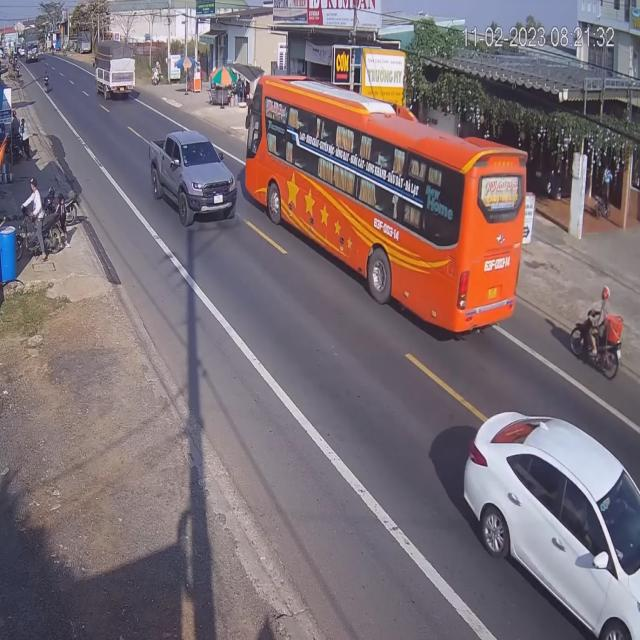bus: (248, 64, 532, 343)
car: (466, 406, 640, 640), (152, 131, 238, 228)
motorbike: (568, 290, 623, 382)
truck: (94, 44, 134, 104)
